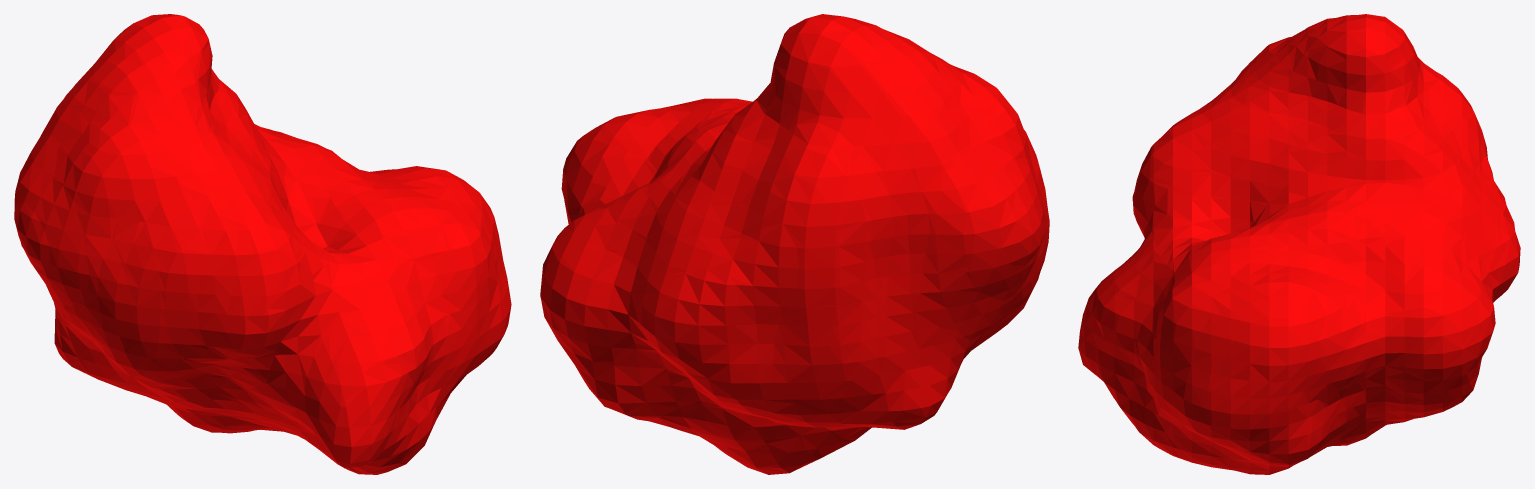
File: fetA_coarse.dae
3 renders of one model, left to right at view 1: azimuth 30°, elevation 25°; view 2: azimuth 150°, elevation 25°; view 3: azimuth 270°, elevation 25°, orthographic. The views are drawn at different scales.
Visible parts, largest first — view 1: fetA; view 2: fetA; view 3: fetA.
Part boxes in pixels (bbox=[...]): fetA: bbox=[14, 14, 511, 474]; fetA: bbox=[540, 14, 1049, 474]; fetA: bbox=[1078, 14, 1520, 474].
Bounding box in the file's own units: 52.74 × 48.09 × 49.63.
